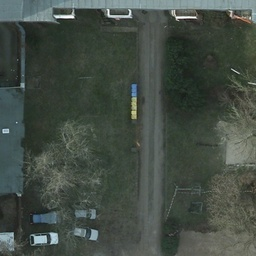car: (68, 197, 102, 231), (64, 215, 98, 249), (28, 221, 62, 255)
